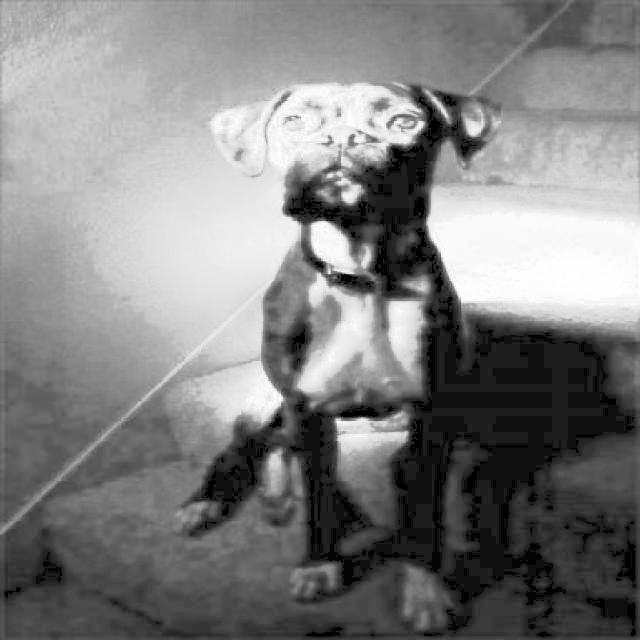Dog: (173, 76, 498, 639)
